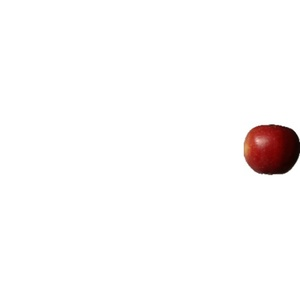maçã braeburn: (246, 124, 298, 177)
